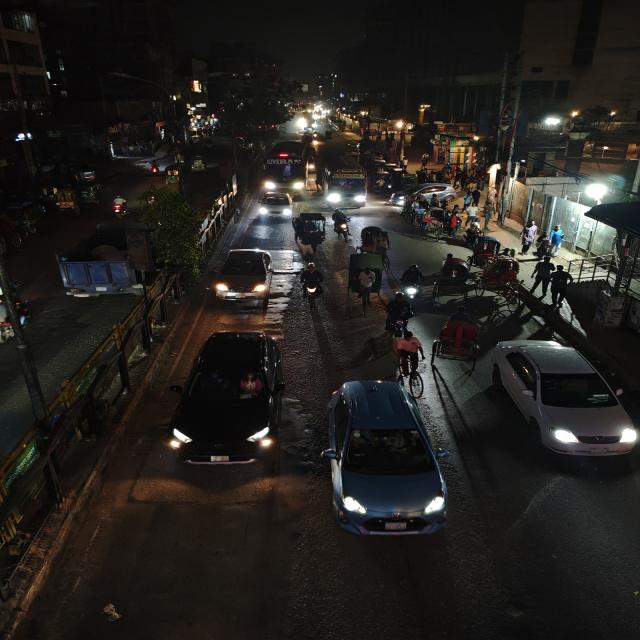bicycle: (389, 329, 428, 398)
bus: (260, 138, 311, 196), (318, 160, 370, 210)
car: (321, 376, 446, 548), (487, 337, 640, 469), (166, 326, 289, 472), (212, 247, 277, 306), (256, 190, 293, 220)
cng: (294, 211, 328, 251), (330, 207, 353, 239), (72, 182, 101, 204), (164, 163, 183, 185), (189, 154, 208, 174), (305, 150, 317, 174)
motorcycle: (380, 294, 413, 332), (298, 261, 325, 305), (399, 263, 425, 302), (439, 252, 467, 280), (109, 194, 130, 218), (140, 183, 160, 207), (148, 158, 162, 176)
pedestrian: (546, 264, 572, 308), (354, 267, 380, 308), (531, 256, 554, 296), (519, 218, 539, 254), (548, 224, 566, 255), (532, 228, 548, 260), (462, 224, 482, 247), (501, 247, 520, 270), (479, 202, 494, 231)
pickup_van: (54, 220, 150, 302)
rickshaw: (431, 314, 484, 370), (470, 255, 521, 301), (417, 208, 461, 240), (357, 223, 392, 257), (330, 208, 353, 239), (164, 164, 184, 184)
